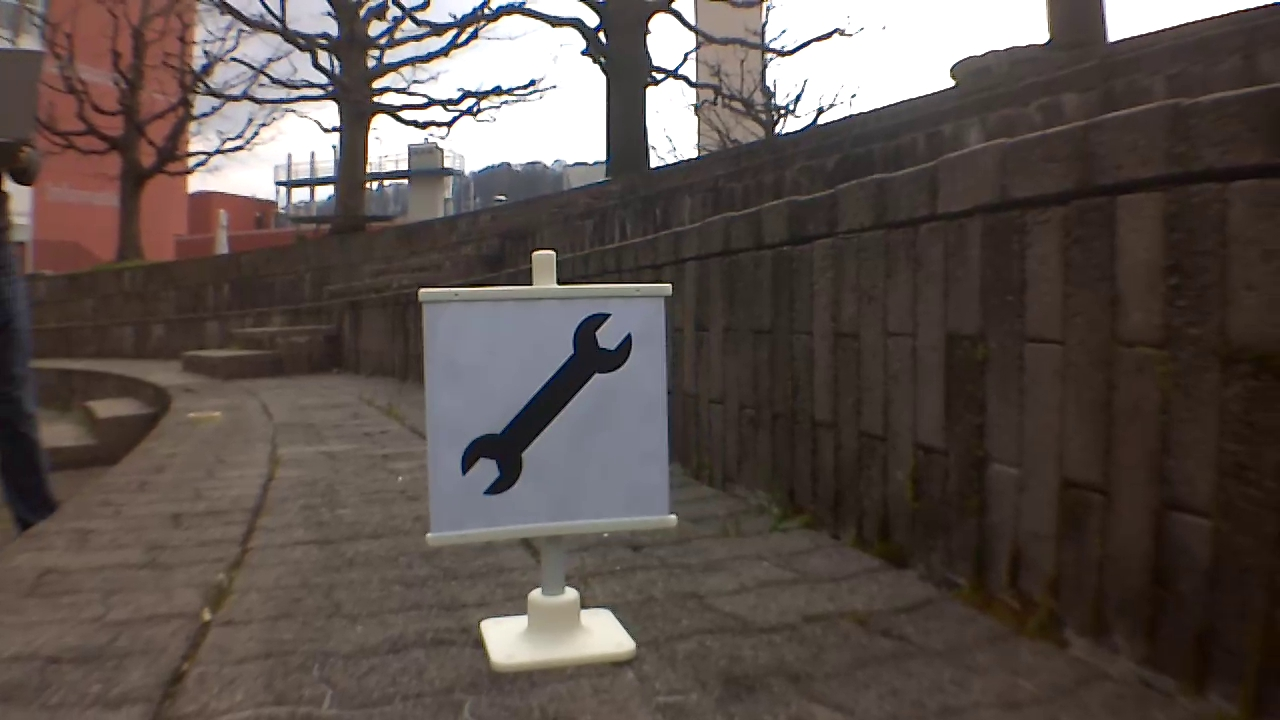wrench: (461, 312, 636, 493)
